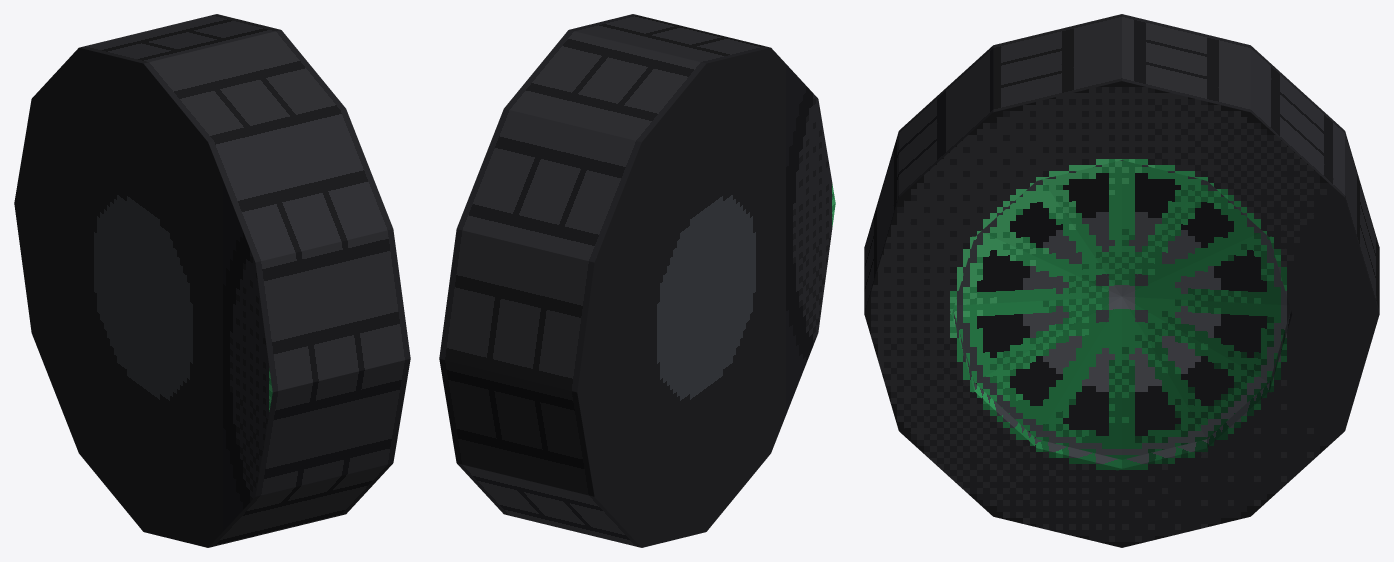
Rendered from wheel_window.glb.
3 renders of one model, left to right at view 1: azimuth 30°, elevation 25°; view 2: azimuth 150°, elevation 25°; view 3: azimuth 270°, elevation 25°, orthographic.
Parts seen in each view (by area): view 1: wheel_window; view 2: wheel_window; view 3: wheel_window.
Boxes of the visible parts, x1=… form: wheel_window: x1=14, y1=14, x2=410, y2=547; wheel_window: x1=439, y1=14, x2=835, y2=547; wheel_window: x1=864, y1=14, x2=1379, y2=547.
Size of the model in its own units: 0.225 by 0.7301 by 0.7301.
1 material, 1 textured.
